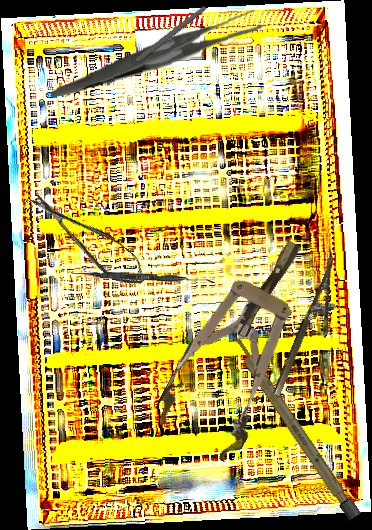Dressing Forceps: (48, 9, 266, 97)
Micro Scissor: (25, 181, 153, 296)
Needle Holder: (271, 256, 356, 404)
Scalpel Handle: (228, 333, 361, 521)
Spatula Surgical: (70, 270, 216, 284)
Speculum: (147, 221, 339, 467)
Surgical Spoon: (105, 4, 208, 87)
